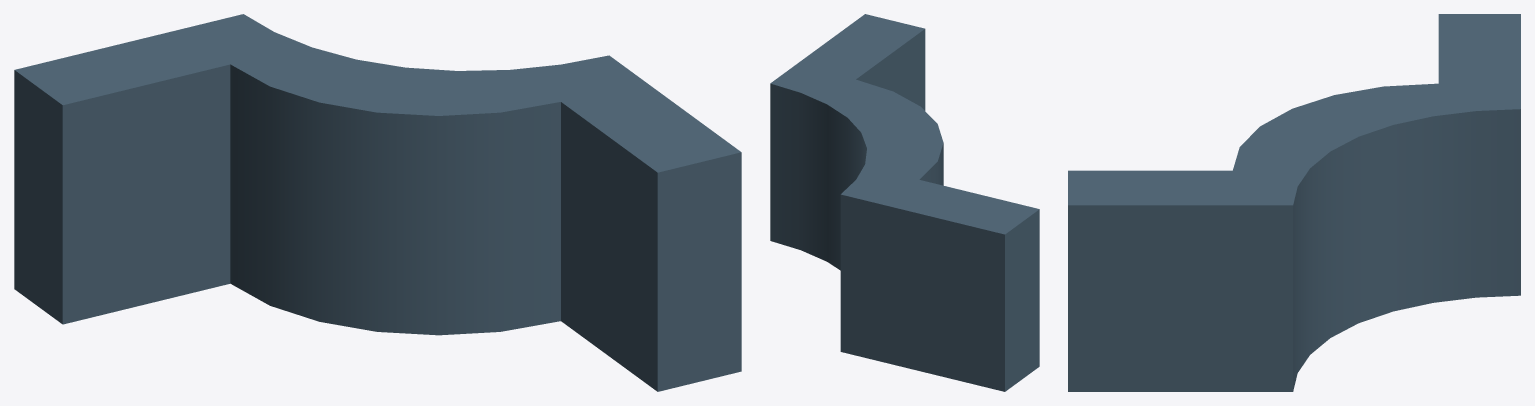
The model's file is W1_WallCorner_Round2A_Top.fbx.
The picture shows the model from 3 angles, left to right: view 1: azimuth 30°, elevation 25°; view 2: azimuth 150°, elevation 25°; view 3: azimuth 270°, elevation 25°; orthographic projection. The views are drawn at different scales.
Parts seen in each view (by area): view 1: W1_WallCorner_Round2A_Top.001; view 2: W1_WallCorner_Round2A_Top.001; view 3: W1_WallCorner_Round2A_Top.001.
Part boxes in pixels (bbox=[...]): W1_WallCorner_Round2A_Top.001: bbox=[14, 14, 741, 391]; W1_WallCorner_Round2A_Top.001: bbox=[770, 14, 1039, 391]; W1_WallCorner_Round2A_Top.001: bbox=[1068, 14, 1520, 391].
Size of the model in its own units: 1.1 by 0.5 by 1.1.
